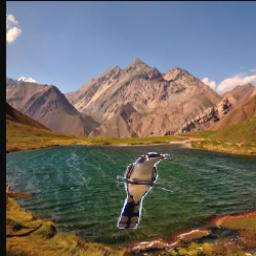Cuckoo: (116, 153, 172, 230)
